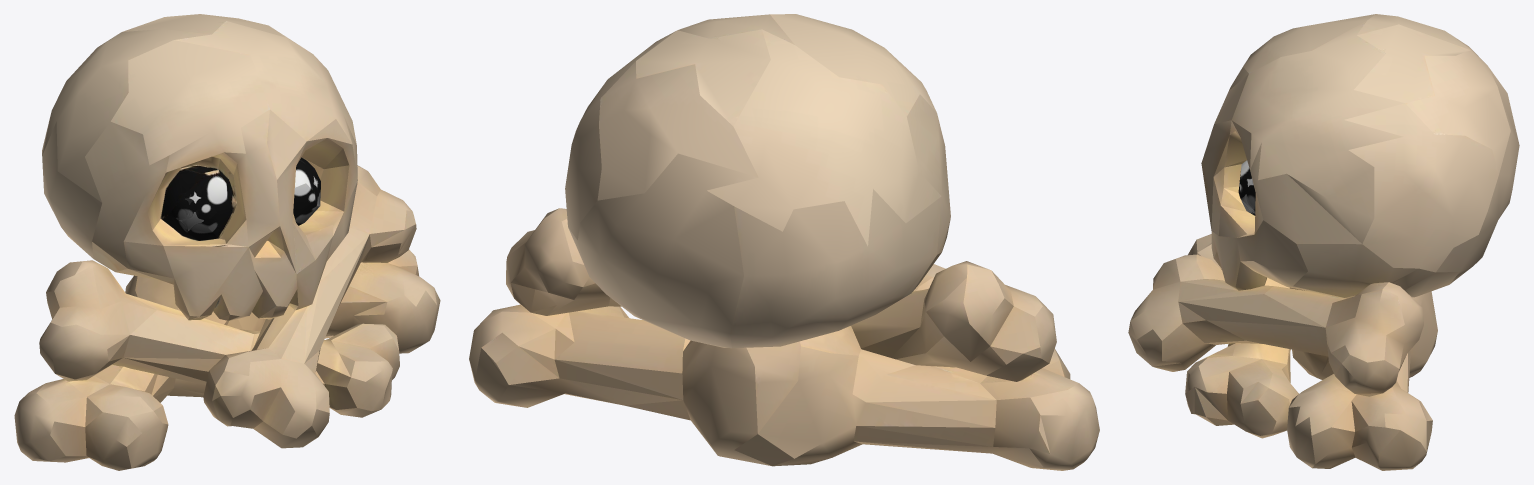
Rendered from bone_pile.glb.
3 views of the same model, side by side, from view 1: azimuth 30°, elevation 25°; view 2: azimuth 150°, elevation 25°; view 3: azimuth 270°, elevation 25° (orthographic). The views are drawn at different scales.
Size of the model in its own units: 1.89 by 1.39 by 1.41.
Materials: 1 (1 with a texture image).
